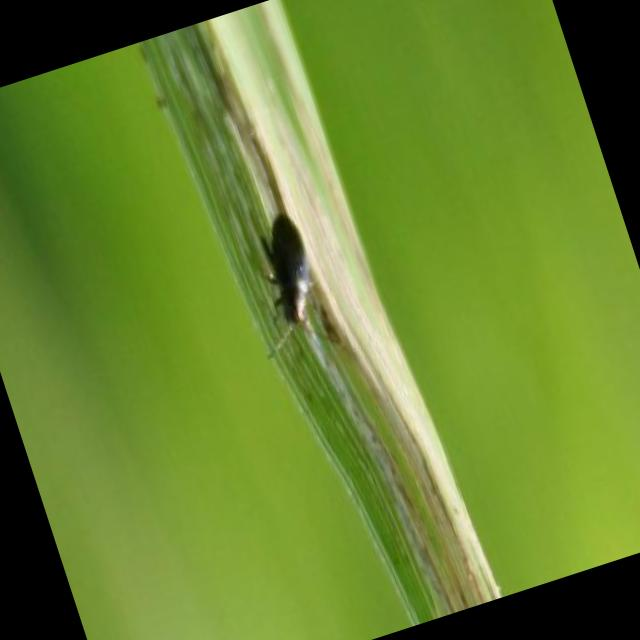rice-bug: (236, 200, 340, 342)
